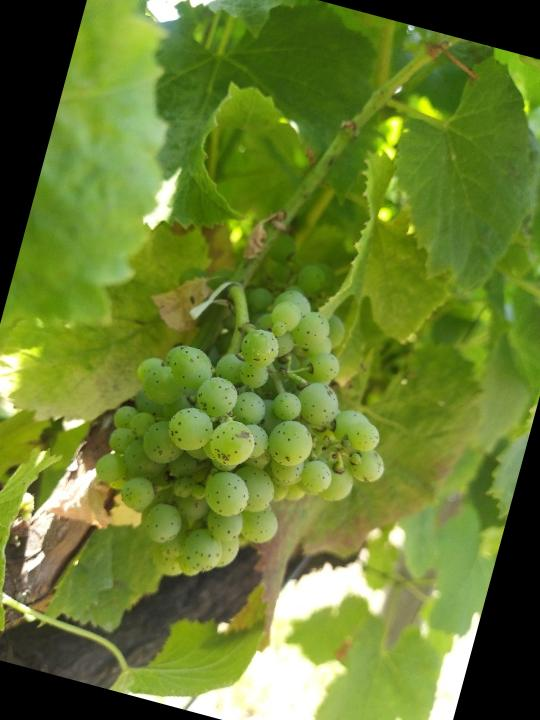grape: (72, 250, 426, 626)
